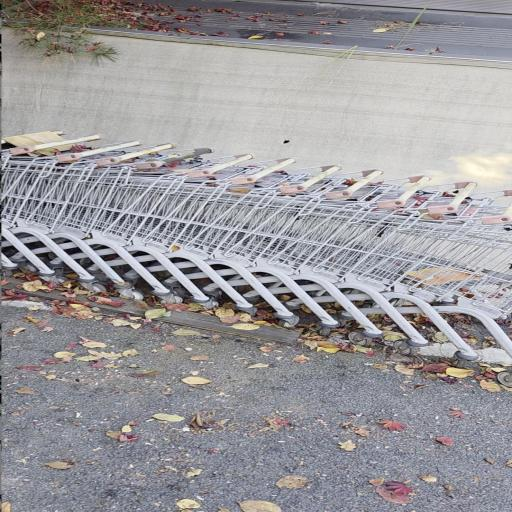combined_cart: (2, 129, 512, 392)
